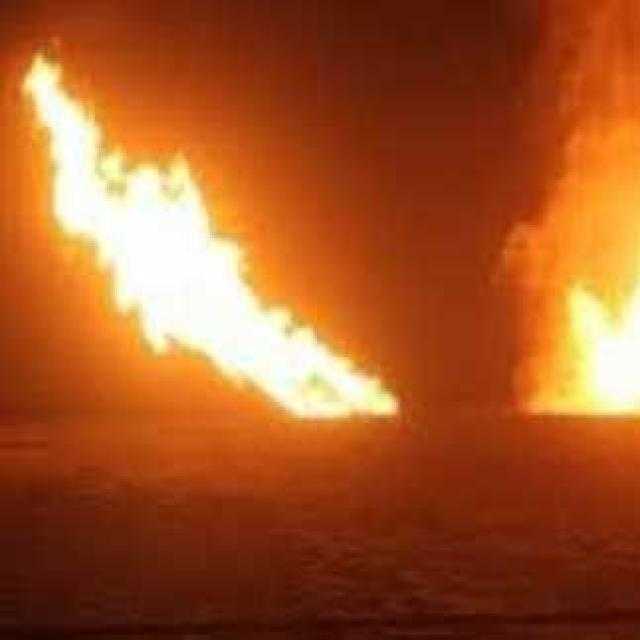Fire: (0, 47, 394, 418), (525, 265, 637, 428)
Smoke: (503, 0, 640, 261)
